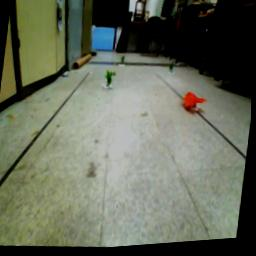herb: (104, 72, 118, 89), (168, 63, 177, 77), (120, 58, 127, 69)
wild: (184, 92, 209, 118)
